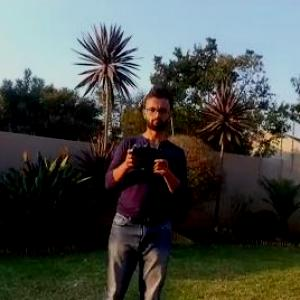follow: (91, 84, 199, 299)
